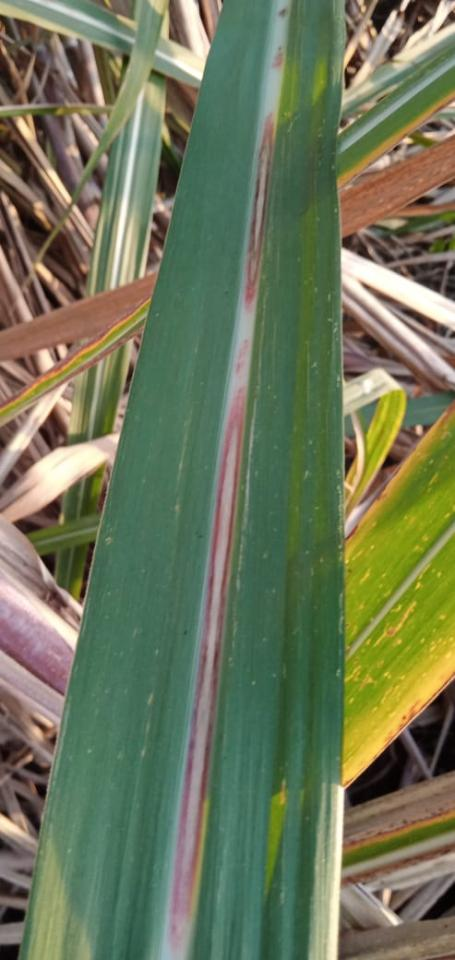RedRot: (169, 338, 249, 953), (245, 113, 274, 312), (268, 5, 290, 71)
